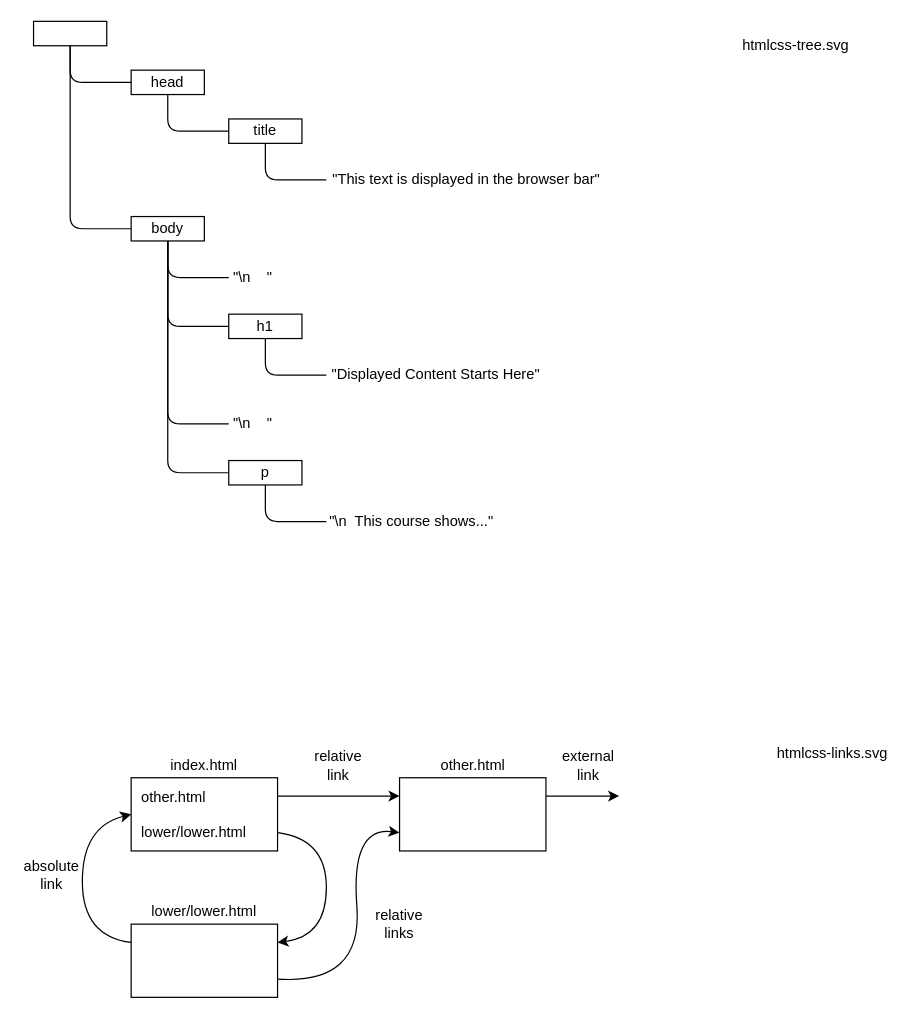
The diagram is 920 pixels wide and 1019 high, and some of its shapes have lost their labels. The shapes that lost their labels are listed below. From the top down, each one's centre as x and y in pixels, then its label:
the point at 69,33: html
the point at 472,814: http://js4ds.org
the point at 204,960: /index.html ../other.html
